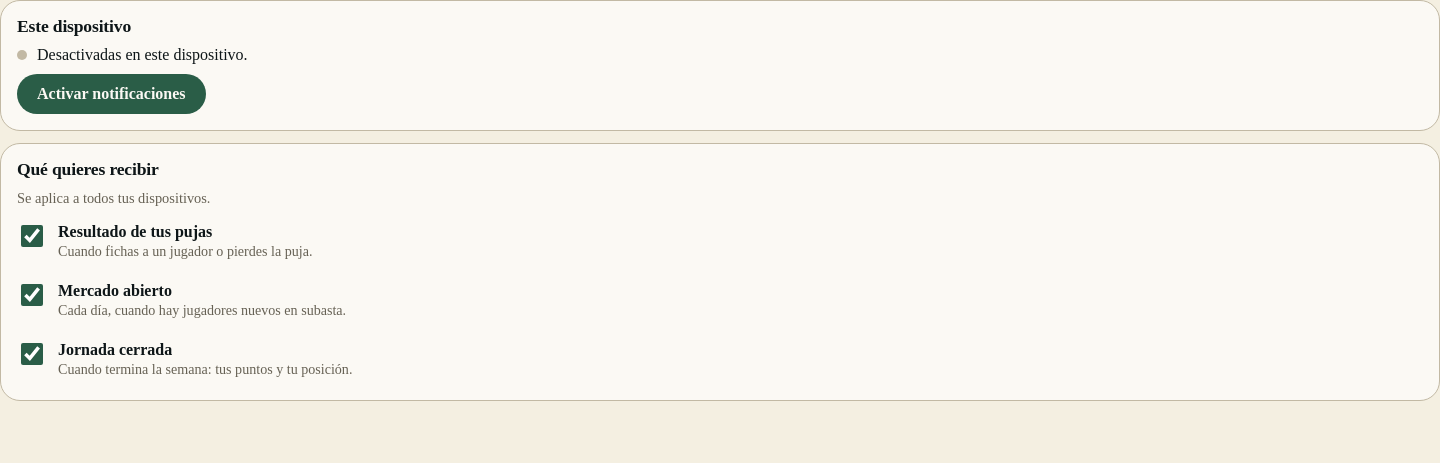
Test: NotificationSettings › a failed save puts the switch back and says so
Step 1. Click the 2nd checkbox → (32, 295), box [21, 284, 43, 306]
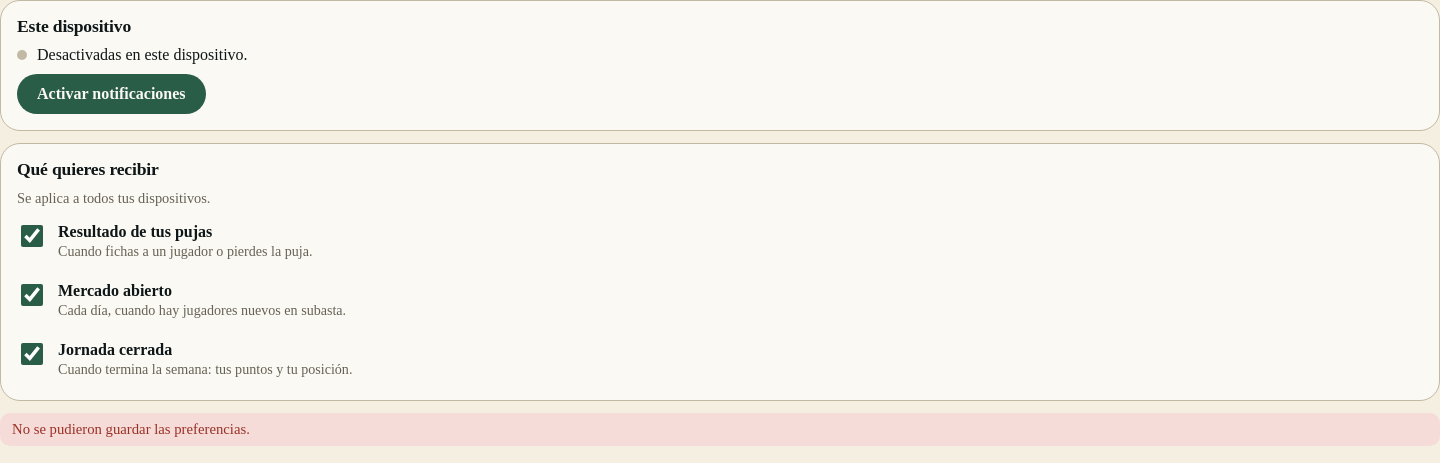
expect the message "No se pudieron guardar las preferencias." is shown: met, box [0, 413, 1439, 446]
